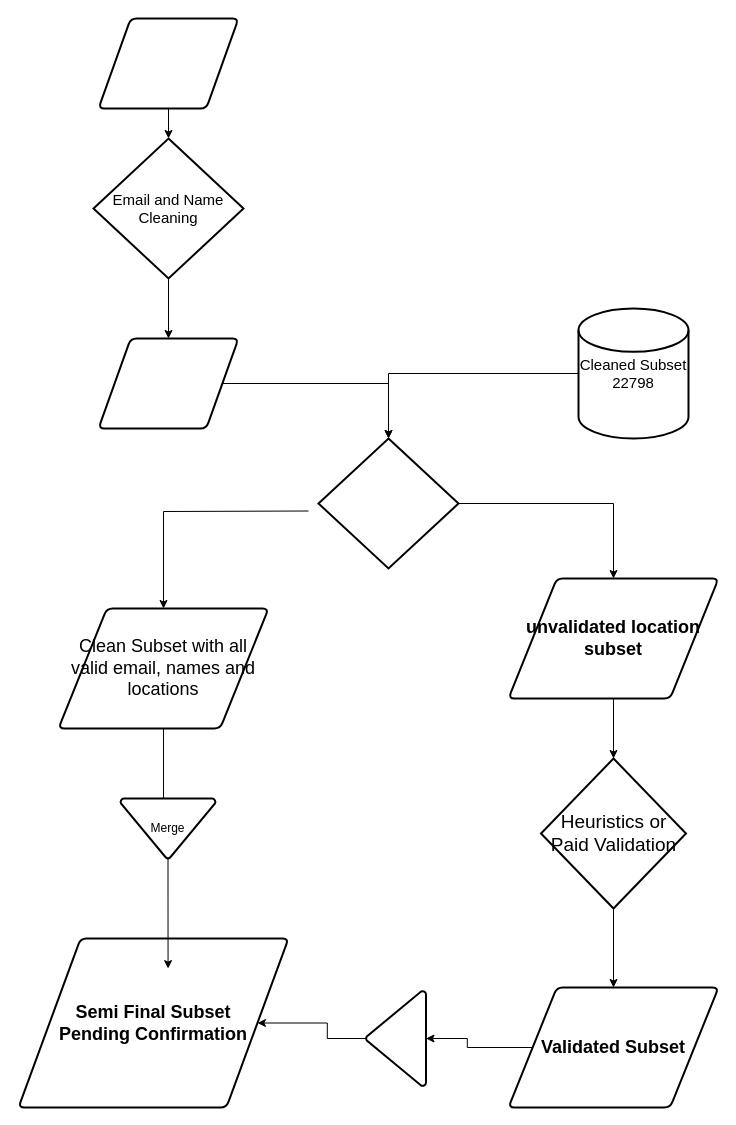
This 736x1125 diagram has some shape labels left out. Here are the shapes that lost their labels. From the top down, the centre of each, then its label:
At pixel 168 63: "Raw Data 96965 Rows".
At pixel 168 383: "Partial Data 94763 Rows".
At pixel 388 503: "Email Merge Check".
At pixel 395 1038: "Mergre".
